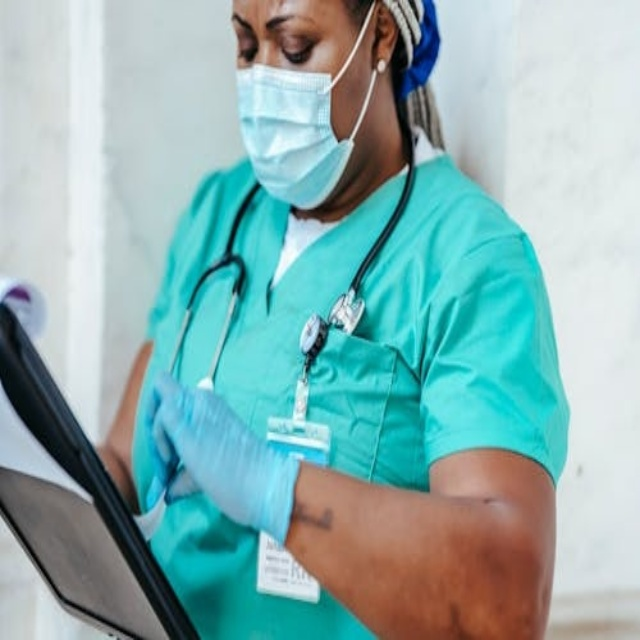Guantes: (137, 356, 312, 555)
Mascara: (237, 4, 377, 210)
Sin_gafas: (237, 13, 334, 75)
